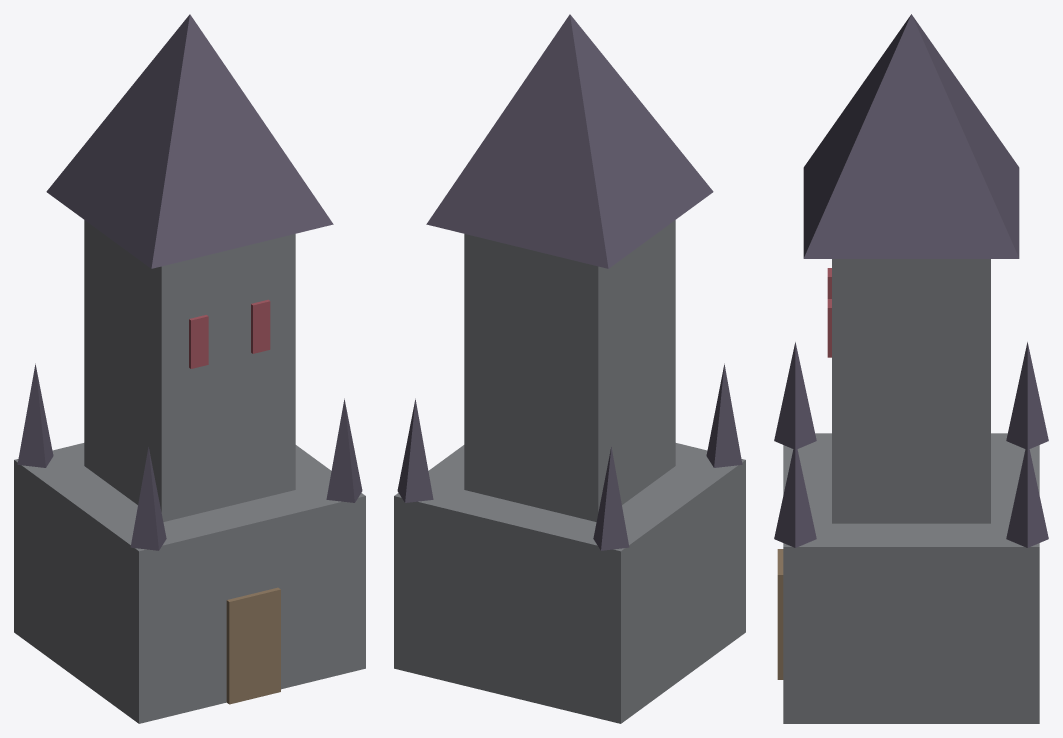
File: spire.fbx
3 renders of one model, left to right at view 1: azimuth 30°, elevation 25°; view 2: azimuth 150°, elevation 25°; view 3: azimuth 270°, elevation 25°, orthographic. The views are drawn at different scales.
Parts seen in each view (by area): view 1: spire4; view 2: spire4; view 3: spire4.
Part boxes in pixels (<box>): spire4: <box>14,14,365,723</box>; spire4: <box>394,14,745,723</box>; spire4: <box>774,14,1048,723</box>.
Size of the model in its own units: 450 by 1180 by 450.
